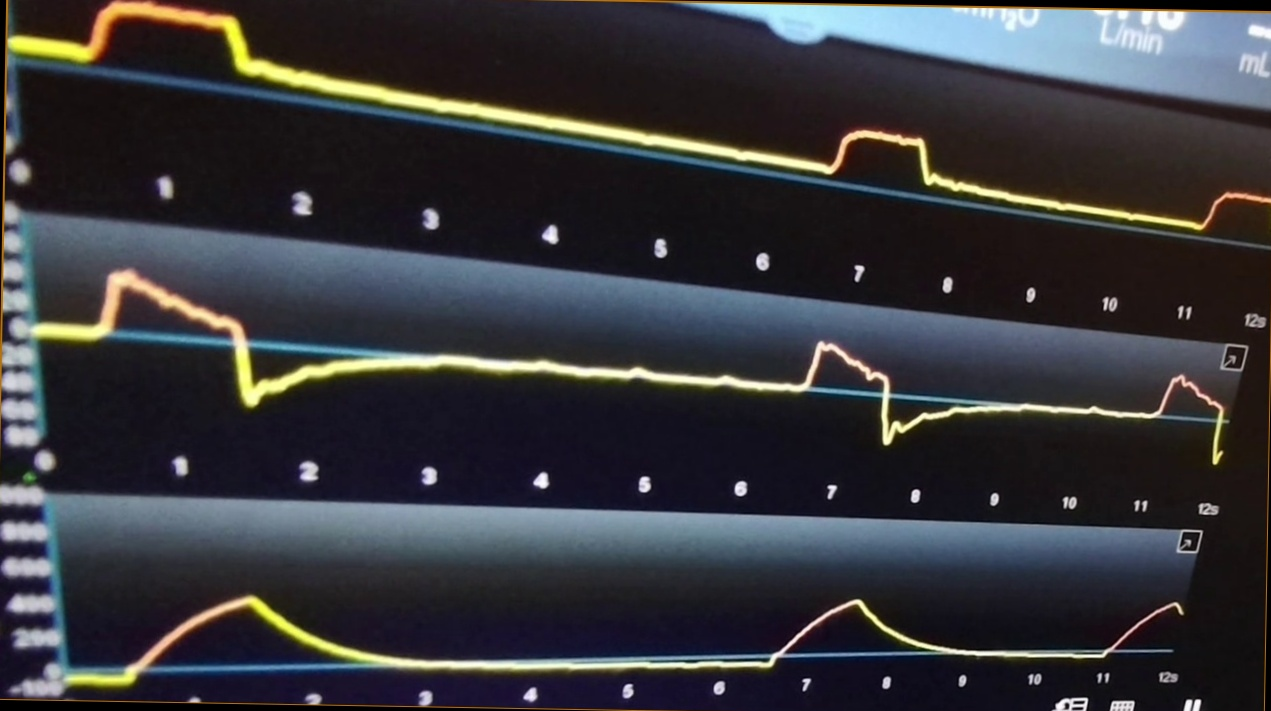Accumulation Flow: (44, 264, 1228, 462)
Volume: (68, 571, 1184, 687)
